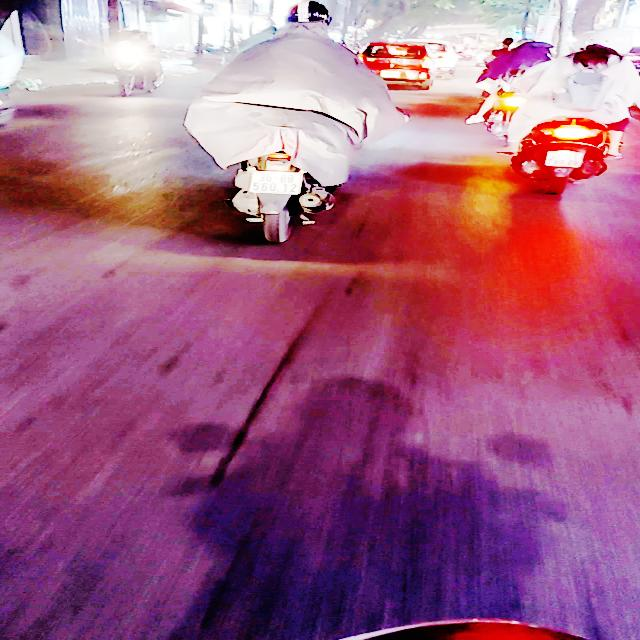license_plate: (249, 171, 303, 196)
